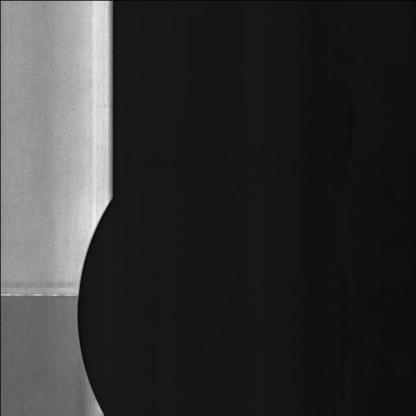crescent_gap: (70, 181, 126, 416)
welding_line: (0, 286, 86, 307)
